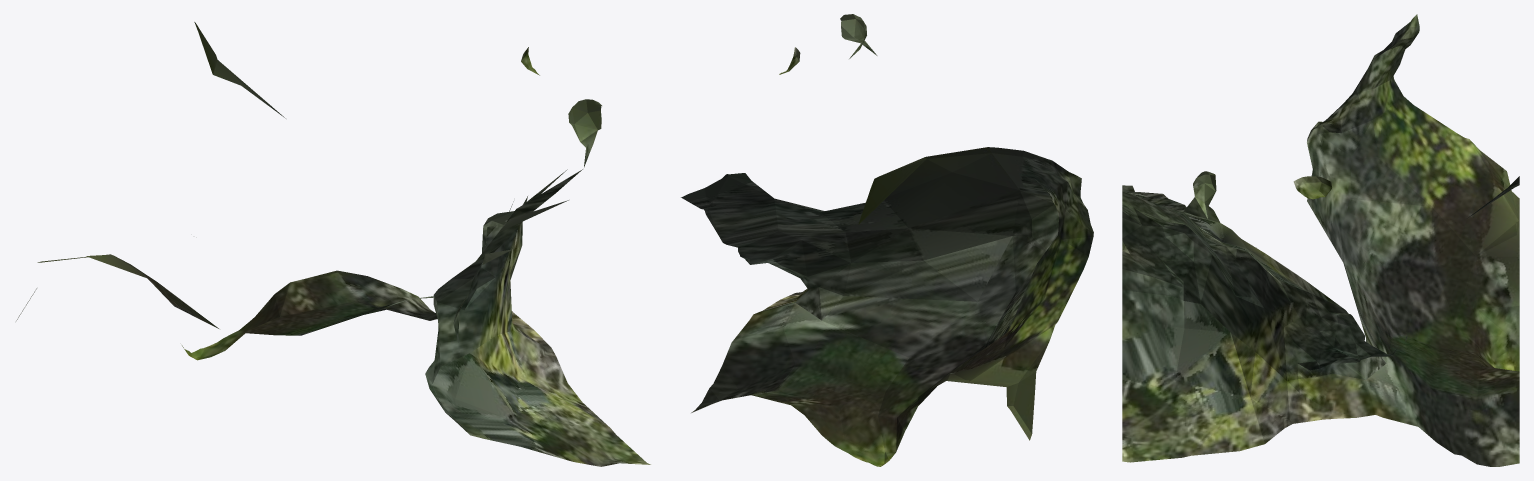
3 renders of one model, left to right at view 1: azimuth 30°, elevation 25°; view 2: azimuth 150°, elevation 25°; view 3: azimuth 270°, elevation 25°, orthographic. The views are drawn at different scales.
Bounding box in the file's own units: 2.95 × 2.34 × 2.95.
Materials: 5 (5 with a texture image).
